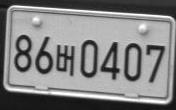0: (122, 41, 143, 82), (79, 38, 98, 78)
4: (99, 40, 121, 80)
6: (34, 35, 54, 75)
7: (144, 43, 166, 83)
8: (13, 33, 32, 73)
버: (55, 44, 76, 76)
